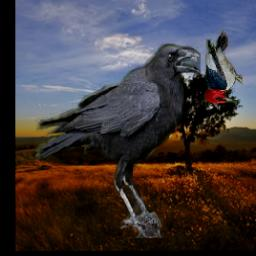Crow: (36, 44, 202, 238)
Woodpecker: (202, 28, 245, 103)
